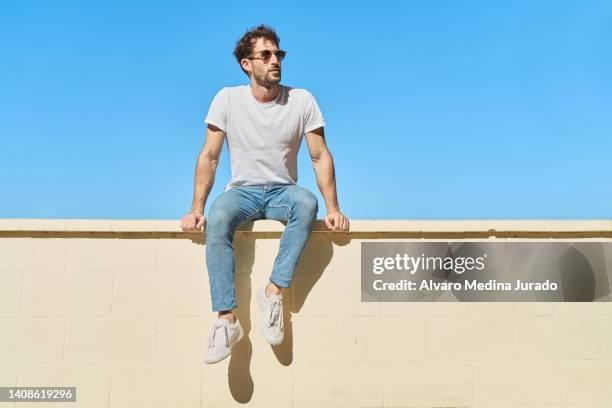short sleeve shirt: (202, 82, 327, 187)
trousers: (204, 181, 320, 315)
